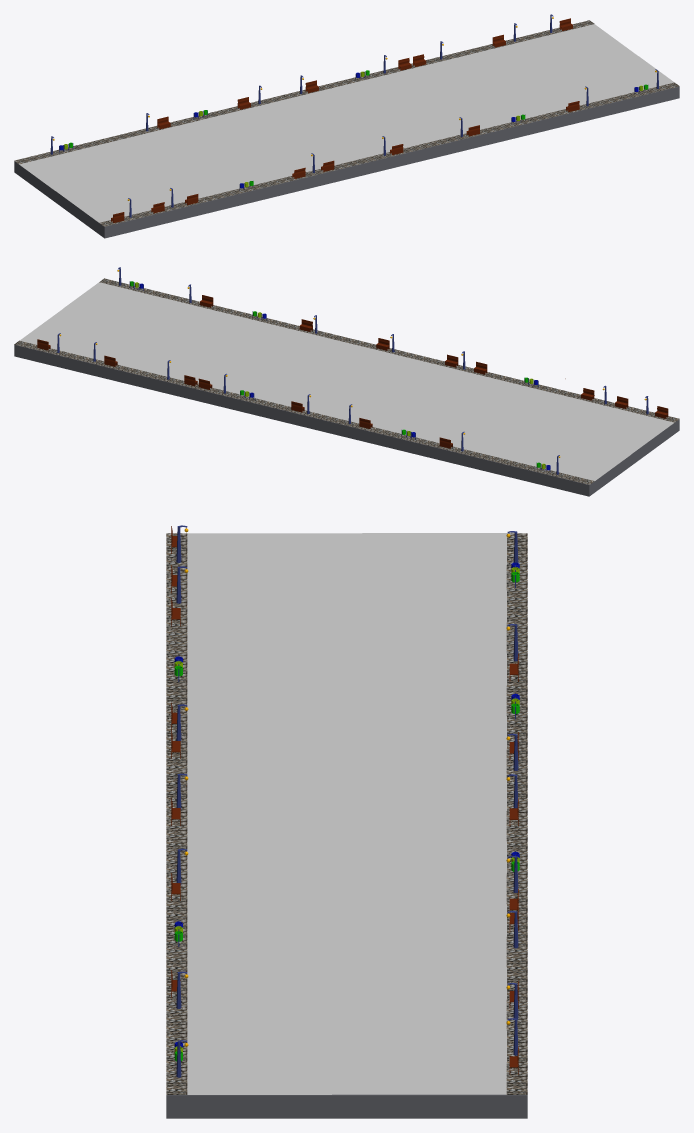
File: Arena1.obj
3 views of the same model, one above another, from view 1: azimuth 30°, elevation 25°; view 2: azimuth 150°, elevation 25°; view 3: azimuth 270°, elevation 25° (orthographic). The views are drawn at different scales.
Visible parts, largest first — view 1: sueloHierba_Cube.001, Tierra_Cube.002, sueloPiedra_Cube.176, sueloPiedra.001_Cube.178; view 2: sueloHierba_Cube.001, Tierra_Cube.002, sueloPiedra.001_Cube.178, sueloPiedra_Cube.176; view 3: sueloHierba_Cube.001, sueloPiedra_Cube.176, sueloPiedra.001_Cube.178, Tierra_Cube.002.
Part boxes in pixels (bbox=[...]): sueloHierba_Cube.001: bbox=[19, 24, 674, 222]; Tierra_Cube.002: bbox=[14, 86, 679, 238]; sueloPiedra_Cube.176: bbox=[99, 82, 679, 226]; sueloPiedra.001_Cube.178: bbox=[14, 20, 594, 164]; sueloHierba_Cube.001: bbox=[20, 282, 673, 480]; Tierra_Cube.002: bbox=[14, 344, 679, 496]; sueloPiedra.001_Cube.178: bbox=[14, 340, 594, 484]; sueloPiedra_Cube.176: bbox=[99, 278, 679, 422]; sueloHierba_Cube.001: bbox=[187, 533, 506, 1094]; sueloPiedra_Cube.176: bbox=[166, 533, 187, 1094]; sueloPiedra.001_Cube.178: bbox=[506, 533, 527, 1094]; Tierra_Cube.002: bbox=[166, 1094, 527, 1118].
Size of the model in its own units: 104 by 5.15 by 28.25.
